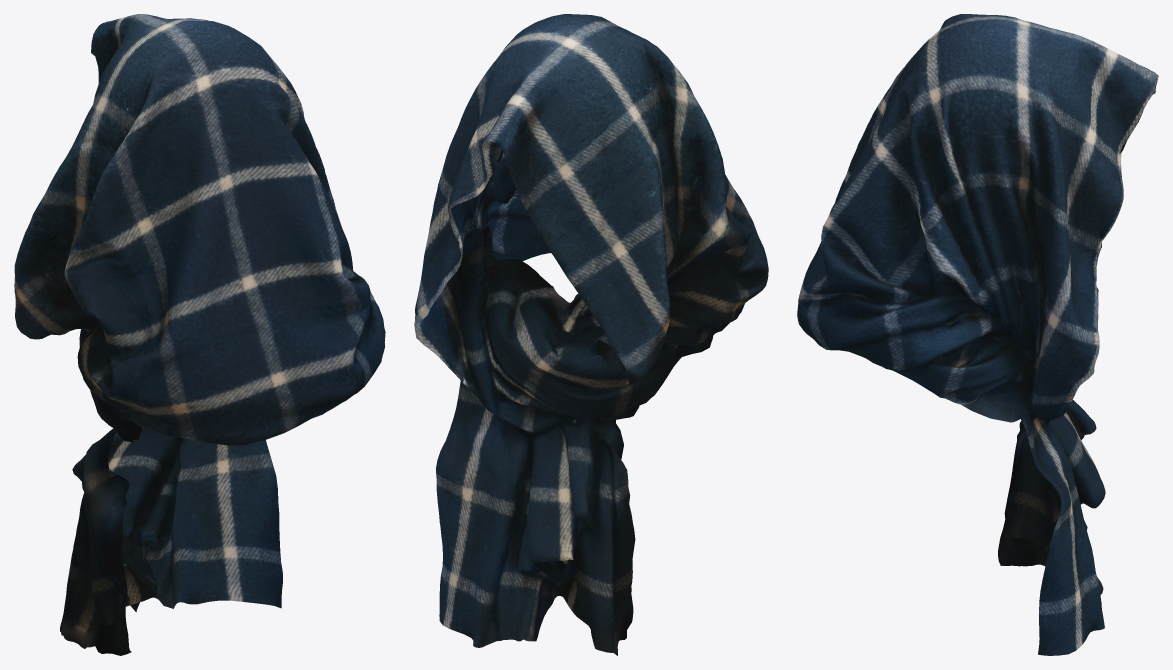
Rendered from greenshadescarfedited.glb.
The picture shows the model from 3 angles, left to right: view 1: azimuth 30°, elevation 25°; view 2: azimuth 150°, elevation 25°; view 3: azimuth 270°, elevation 25°; orthographic projection. The views are drawn at different scales.
Parts seen in each view (by area): view 1: Object_2; view 2: Object_2; view 3: Object_2.
Boxes of the visible parts, left/top/right/bottom form: Object_2: left=14, top=14, right=385, bottom=655; Object_2: left=414, top=14, right=768, bottom=655; Object_2: left=797, top=14, right=1158, bottom=655.
Bounding box in the file's own units: 13.16 × 27.15 × 15.21.
Materials: 1 (1 with a texture image).
